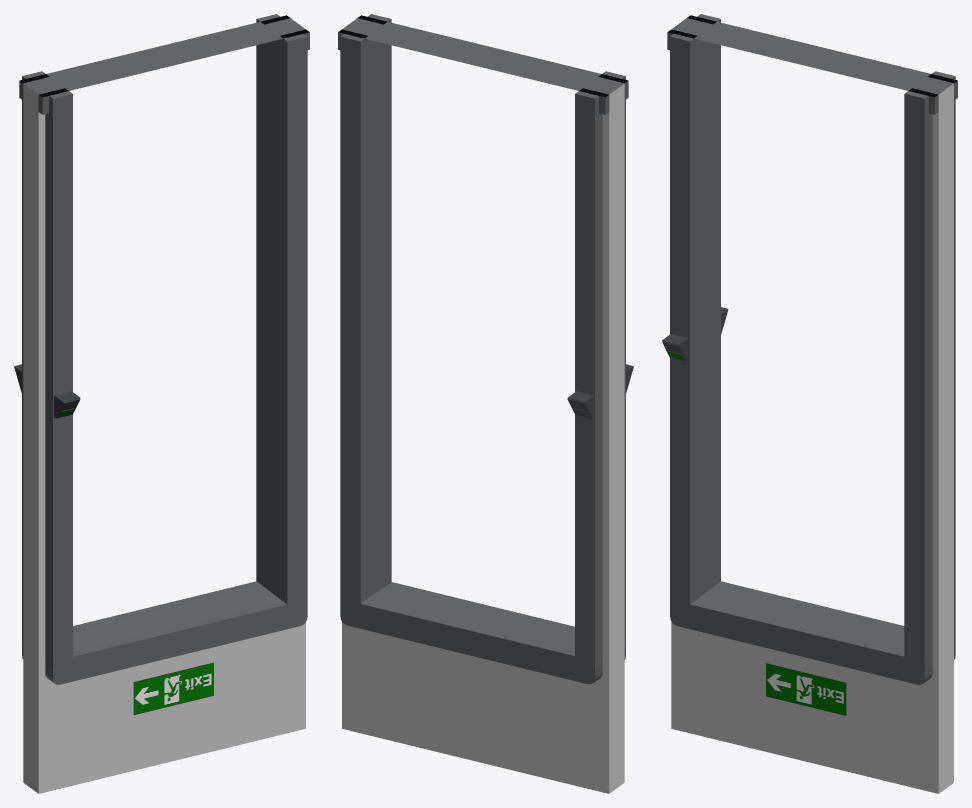
The model's file is Lab_DoorFrame.fbx.
3 views of the same model, side by side, from view 1: azimuth 30°, elevation 25°; view 2: azimuth 150°, elevation 25°; view 3: azimuth 330°, elevation 25° (orthographic).
Visible parts, largest first — view 1: Wall014, Box203, Box204; view 2: Wall014, Box205; view 3: Wall014, Box203, Box204.
Part boxes in pixels (<box>): Wall014: <box>19,14,309,793</box>; Box203: <box>133,662,213,714</box>; Box204: <box>54,391,80,418</box>; Wall014: <box>338,14,628,793</box>; Box205: <box>567,391,593,418</box>; Wall014: <box>667,14,957,793</box>; Box203: <box>766,663,846,715</box>; Box204: <box>662,334,688,361</box>.
Bounding box in the file's own units: 1 × 2.5 × 0.321.
Materials: 7 (1 with a texture image).
